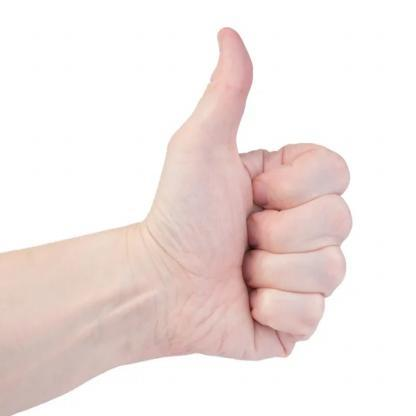thumb_up: (142, 25, 352, 364)
